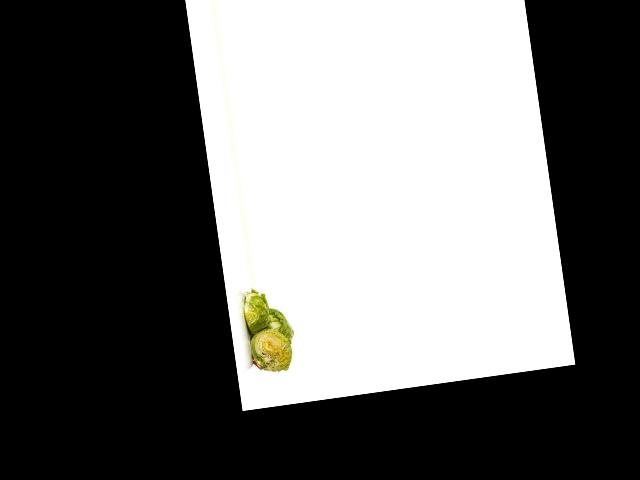lettuce: (260, 301, 296, 351)
